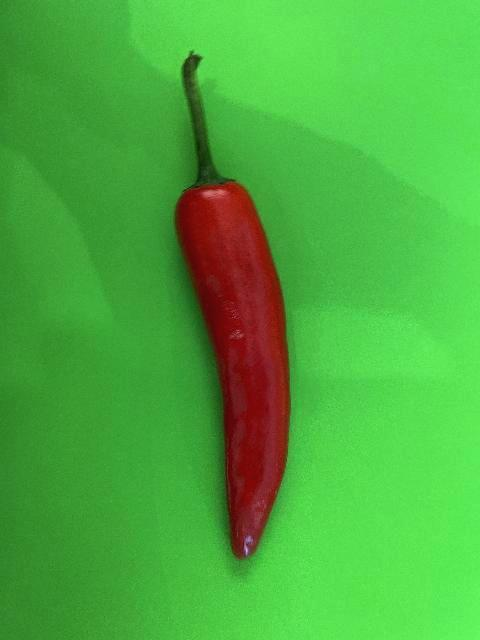chilli: (172, 49, 294, 564)
